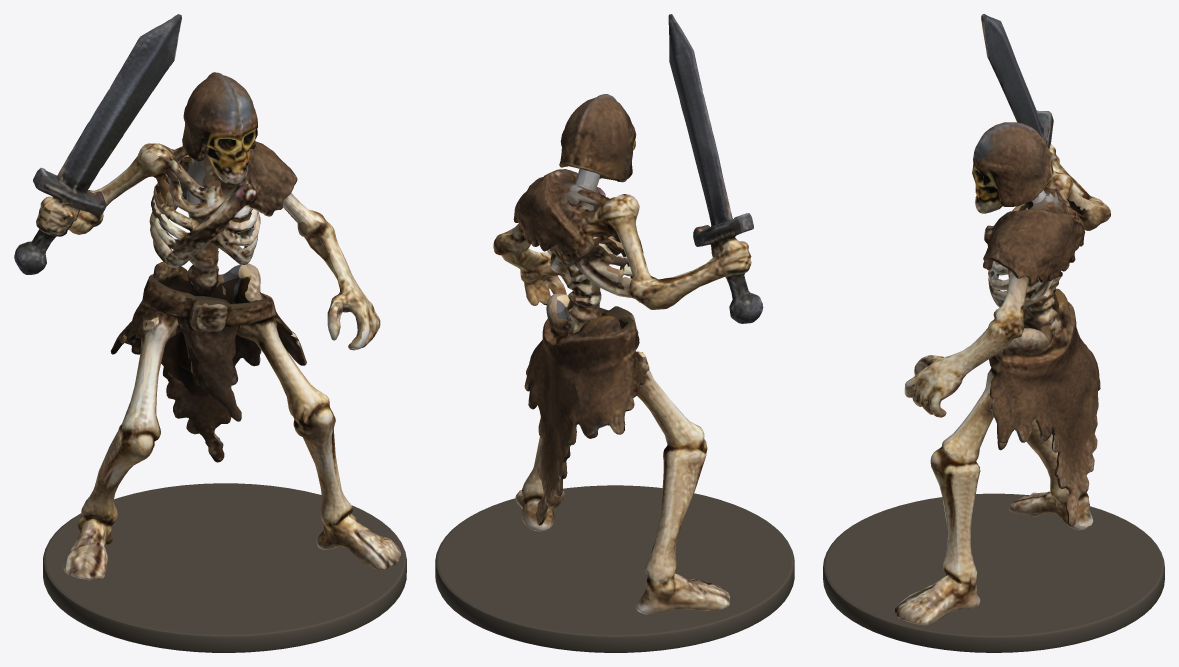
Rendered from skeleton-helmet.glb.
The picture shows the model from 3 angles, left to right: view 1: azimuth 30°, elevation 25°; view 2: azimuth 150°, elevation 25°; view 3: azimuth 270°, elevation 25°; orthographic projection. The views are drawn at different scales.
Visible parts, largest first — view 1: skeleton-helmet_body, skeleton-helmet_round_base; view 2: skeleton-helmet_body, skeleton-helmet_round_base; view 3: skeleton-helmet_body, skeleton-helmet_round_base.
Boxes of the visible parts, left/top/right/bottom form: skeleton-helmet_body: left=14, top=14, right=401, bottom=580; skeleton-helmet_round_base: left=43, top=483, right=406, bottom=652; skeleton-helmet_body: left=493, top=14, right=763, bottom=614; skeleton-helmet_round_base: left=435, top=485, right=794, bottom=652; skeleton-helmet_body: left=894, top=14, right=1110, bottom=625; skeleton-helmet_round_base: left=823, top=493, right=1164, bottom=652.
Bounding box in the file's own units: 1.06 × 1.75 × 1.
2 materials, 1 textured.
